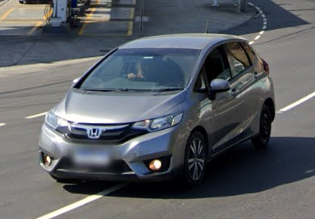car: (39, 32, 277, 185)
